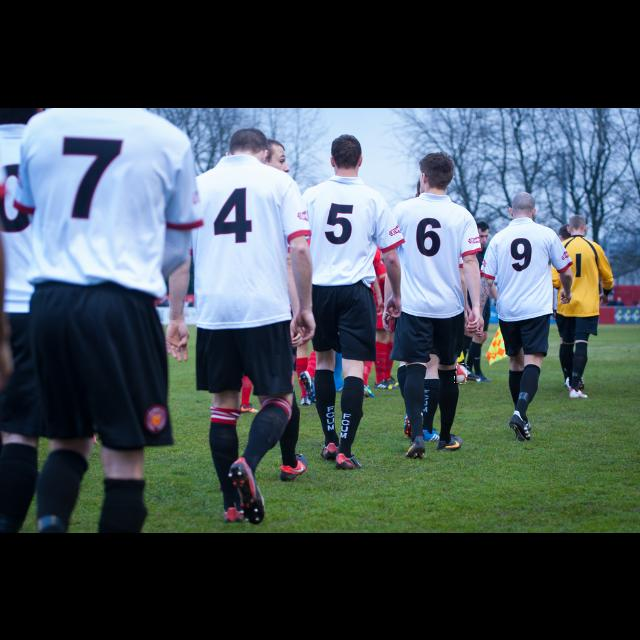Football: (455, 364, 467, 384)
